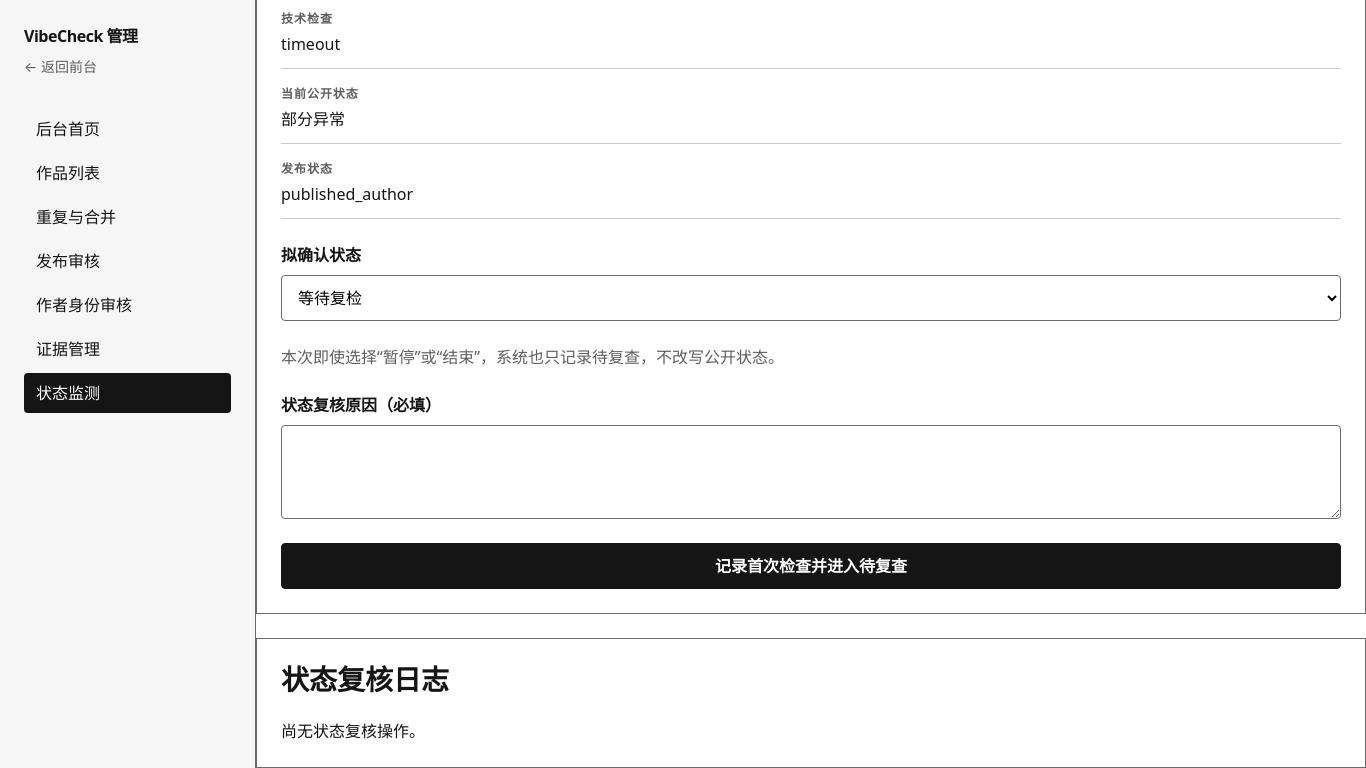
T50 admin workflow pages › records the first URL anomaly without applying the proposed terminal state
(page scrolled)
Select "已结束" in the dropdown labelled "拟确认状态" at (811, 298), box [281,275,1341,321]
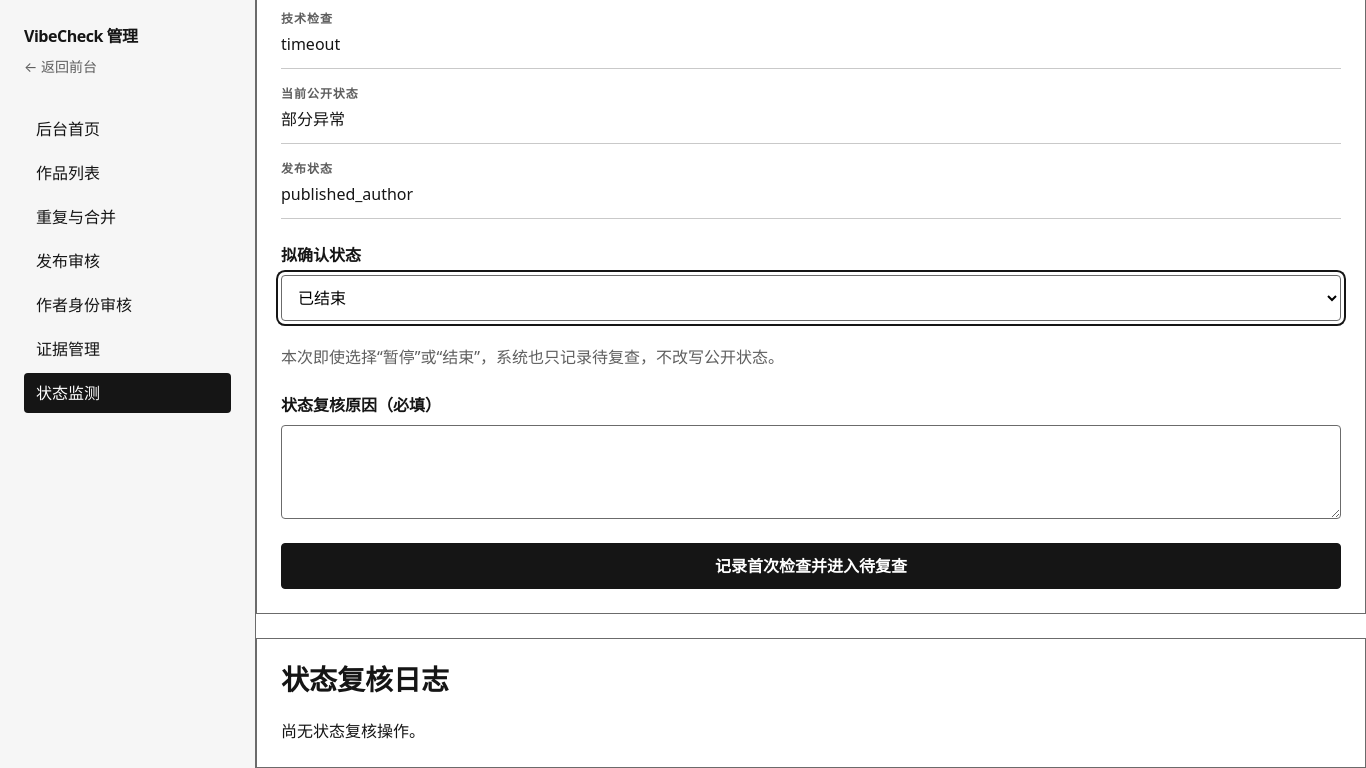
Type "首次技术异常，等待第二来源复查。" into the text box labelled "状态复核原因（必填）" at (811, 472), box [281,425,1341,519]
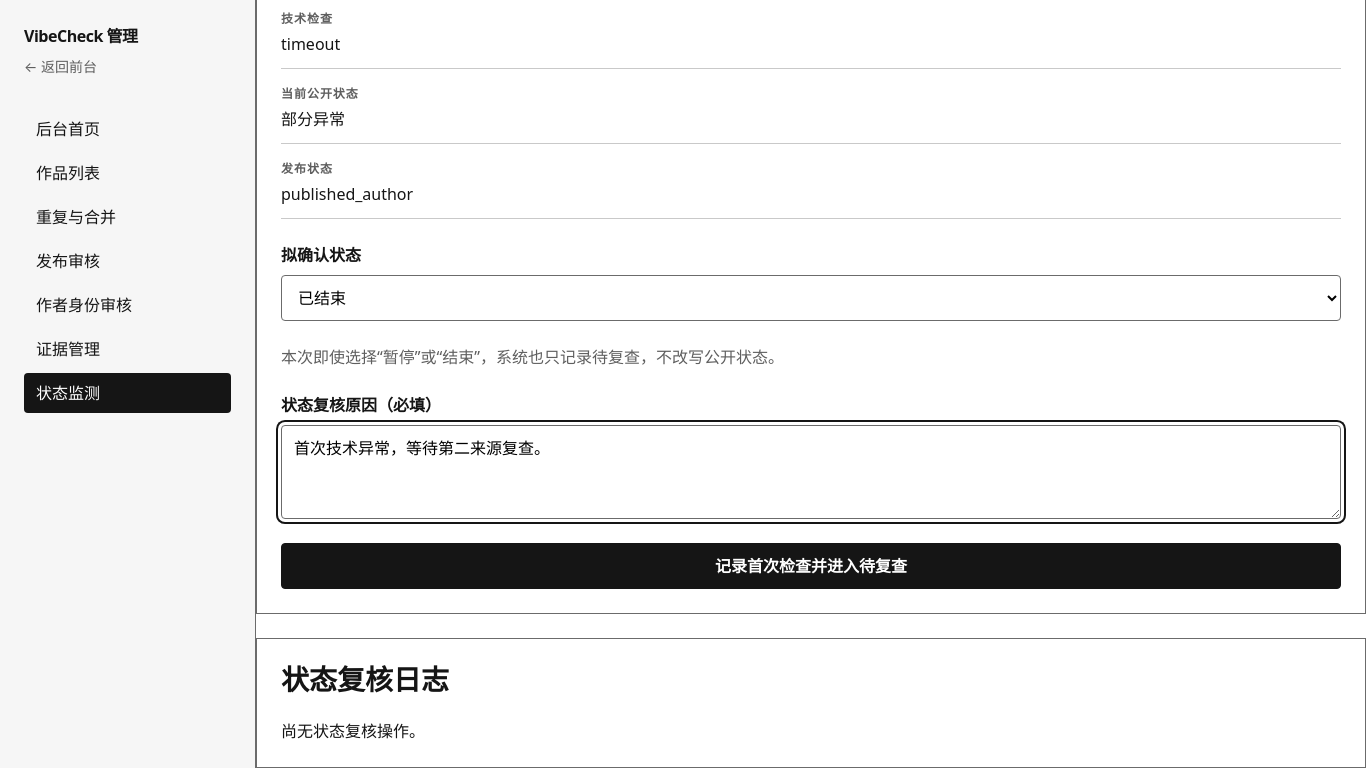
Click the button "记录首次检查并进入待复查" at (811, 566), box [281,543,1341,589]
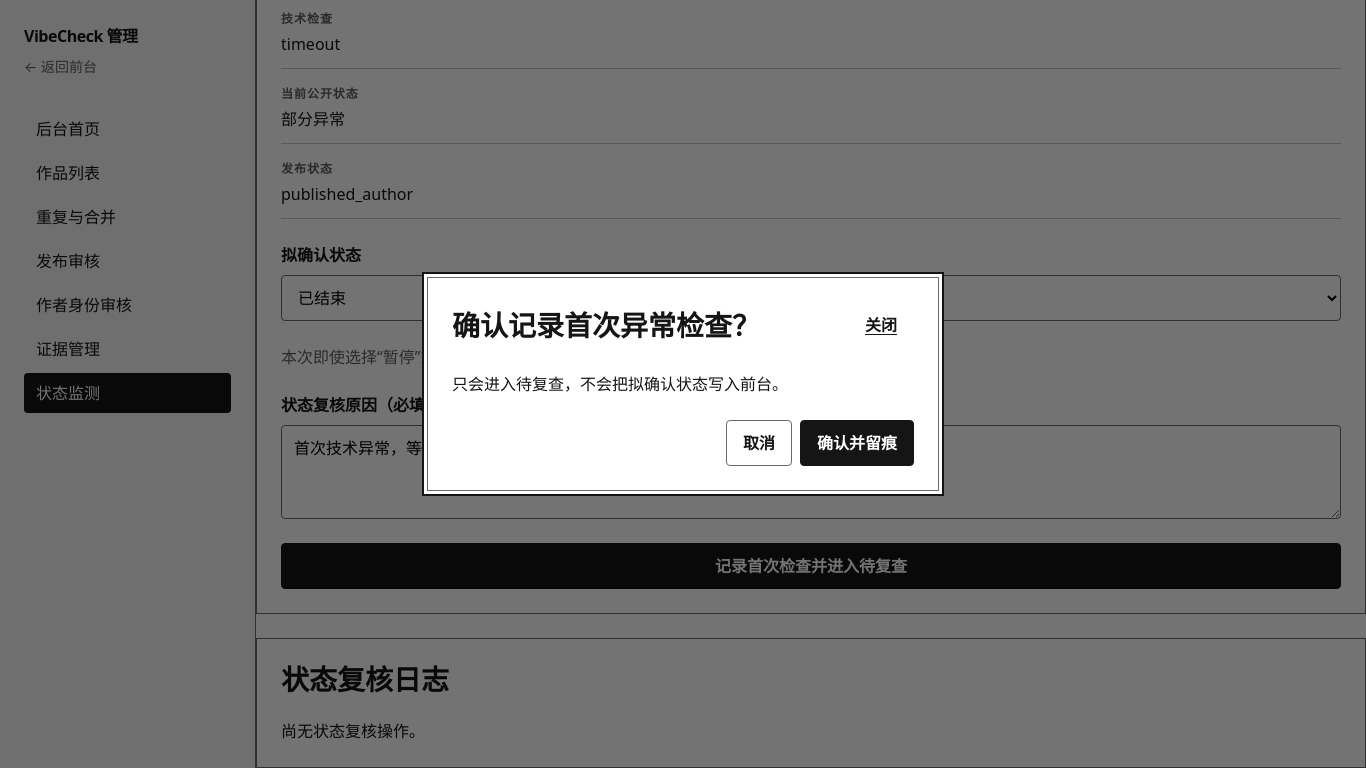
Click the button "确认并留痕" at (857, 443), box [800,420,914,466]
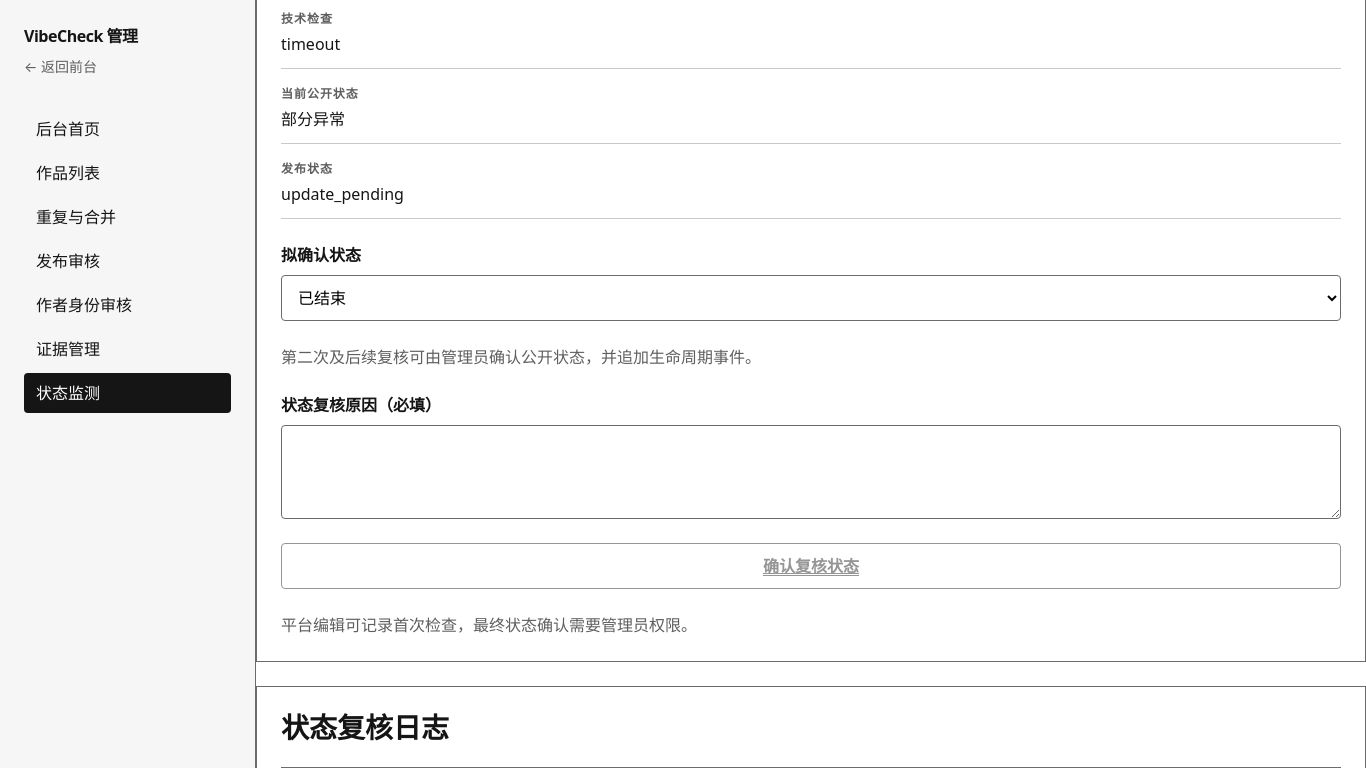
Expected: the text "update_pending" is shown, [281,183,404,205]
